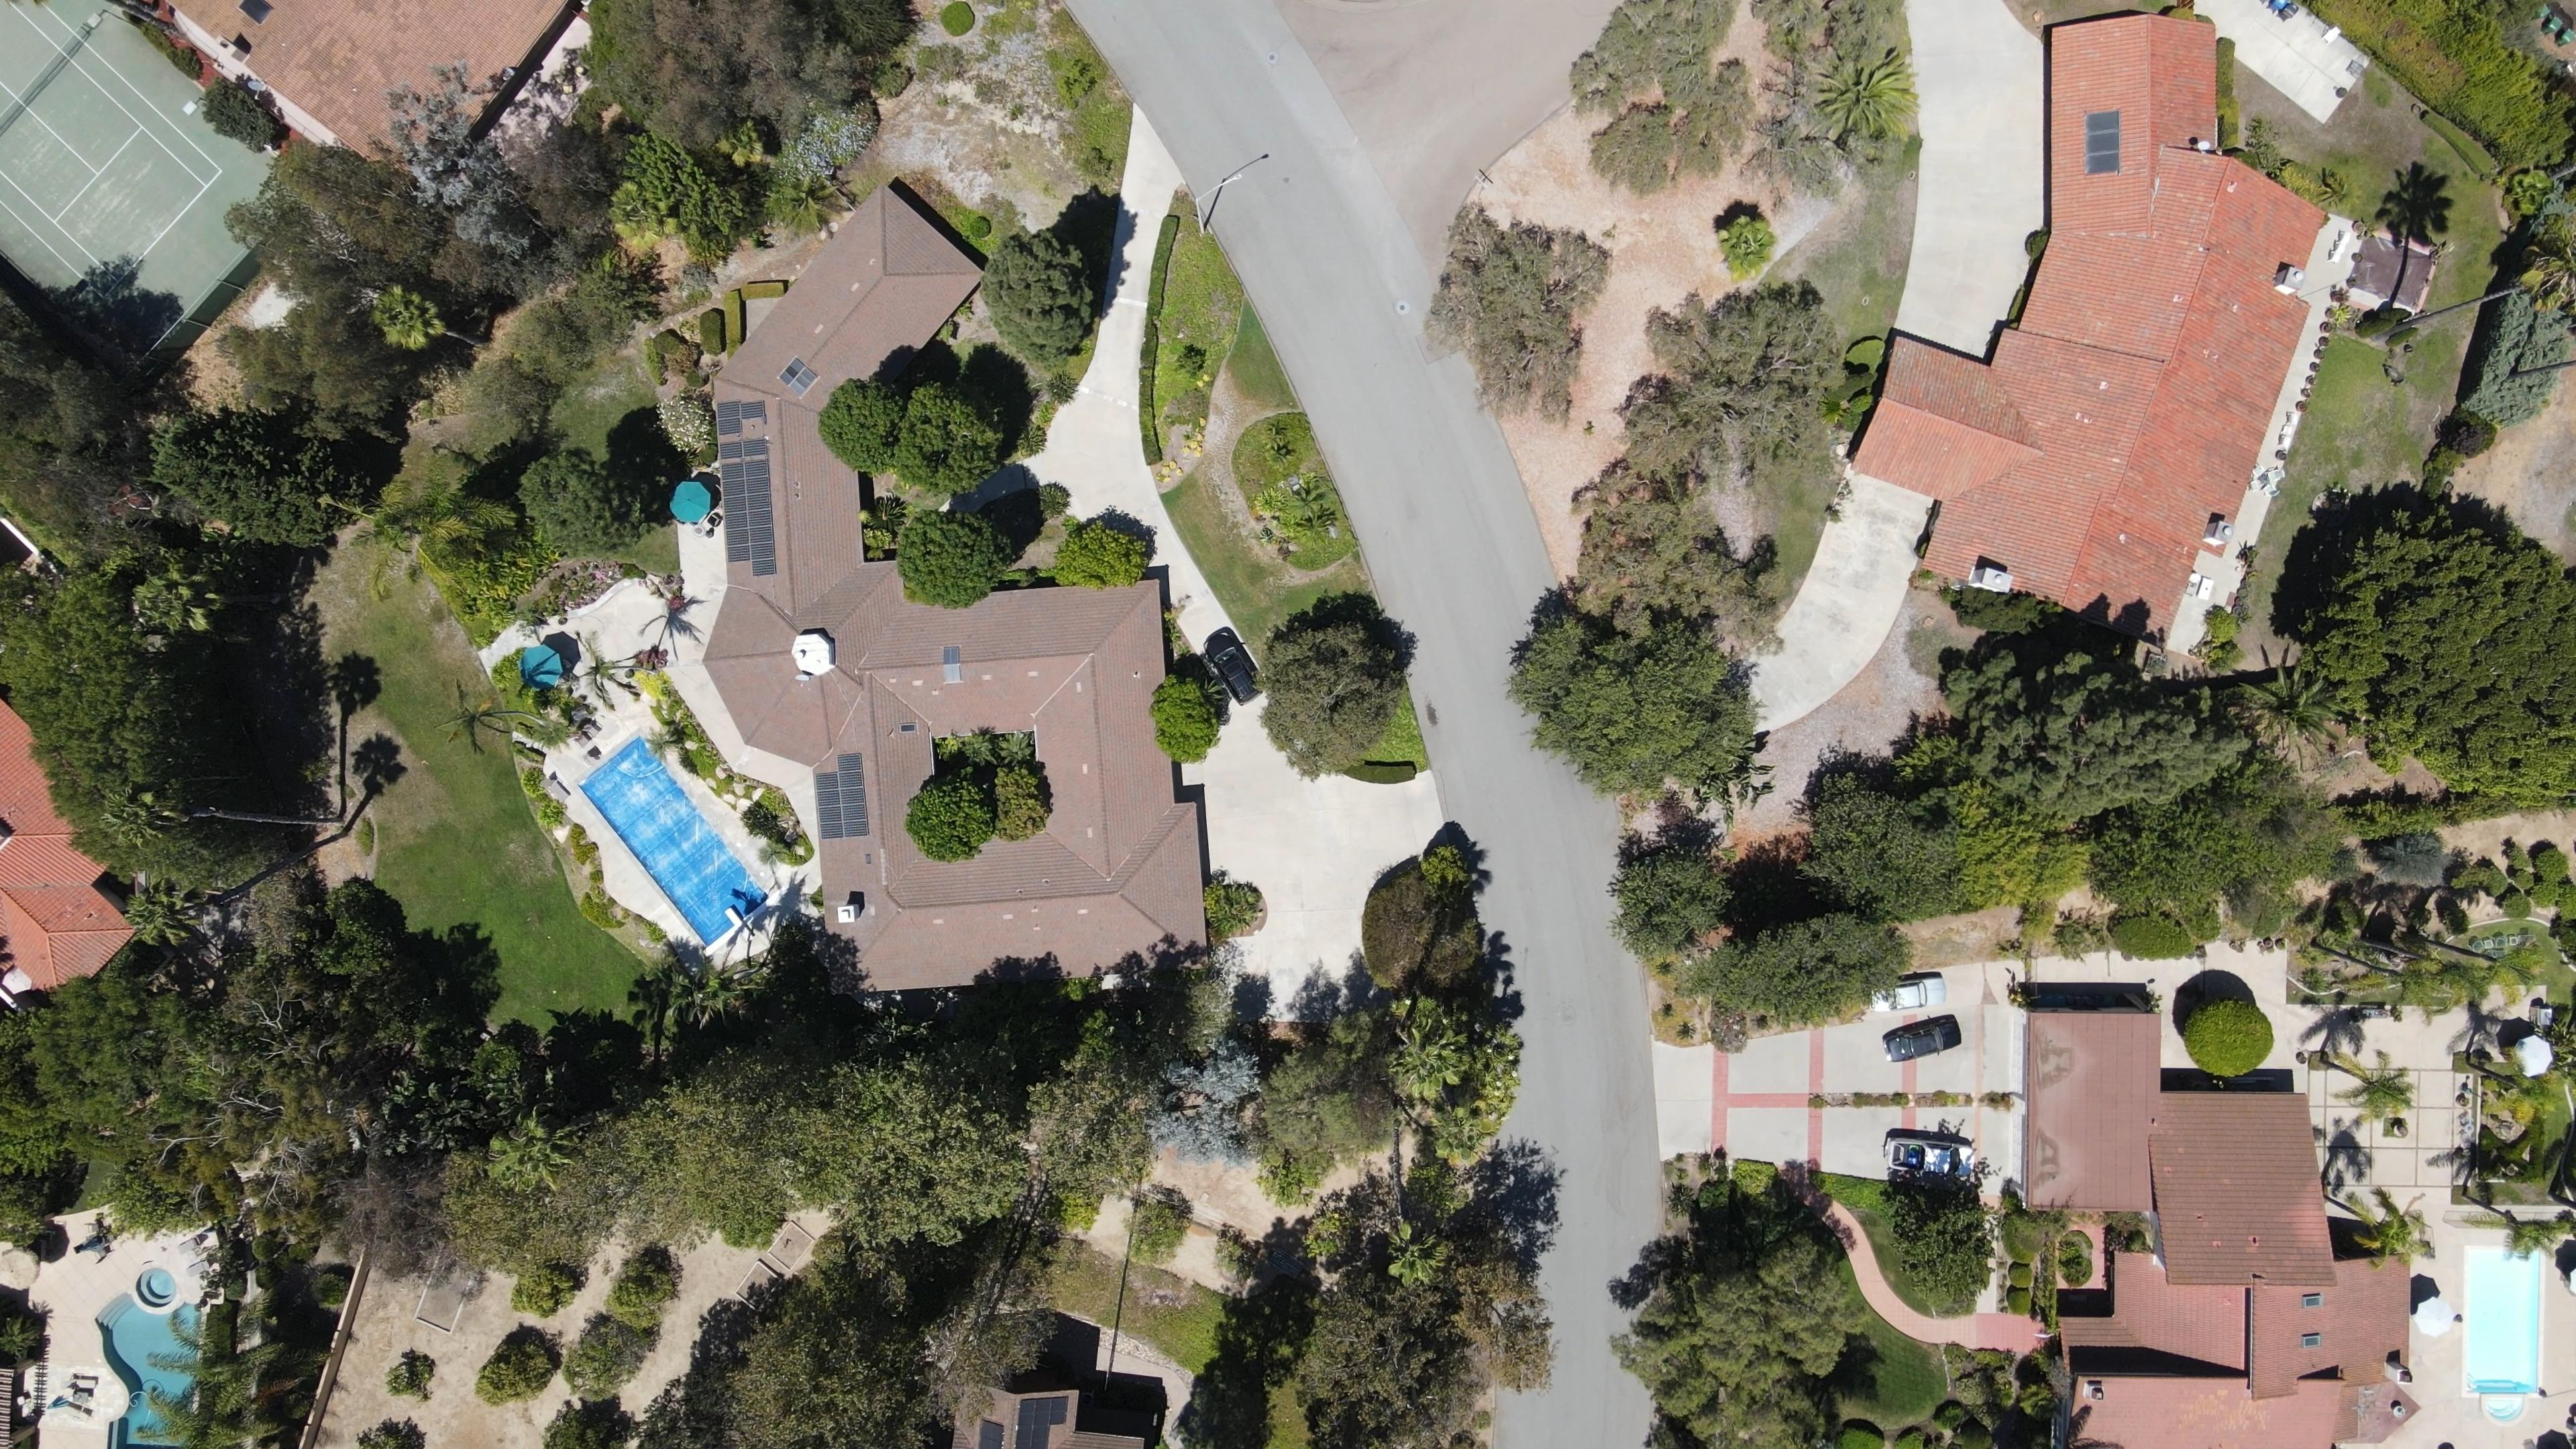panel: (722, 460, 777, 577), (814, 752, 869, 840), (2084, 108, 2121, 175), (777, 356, 819, 400), (717, 398, 764, 435), (718, 439, 768, 460), (941, 644, 962, 685)
